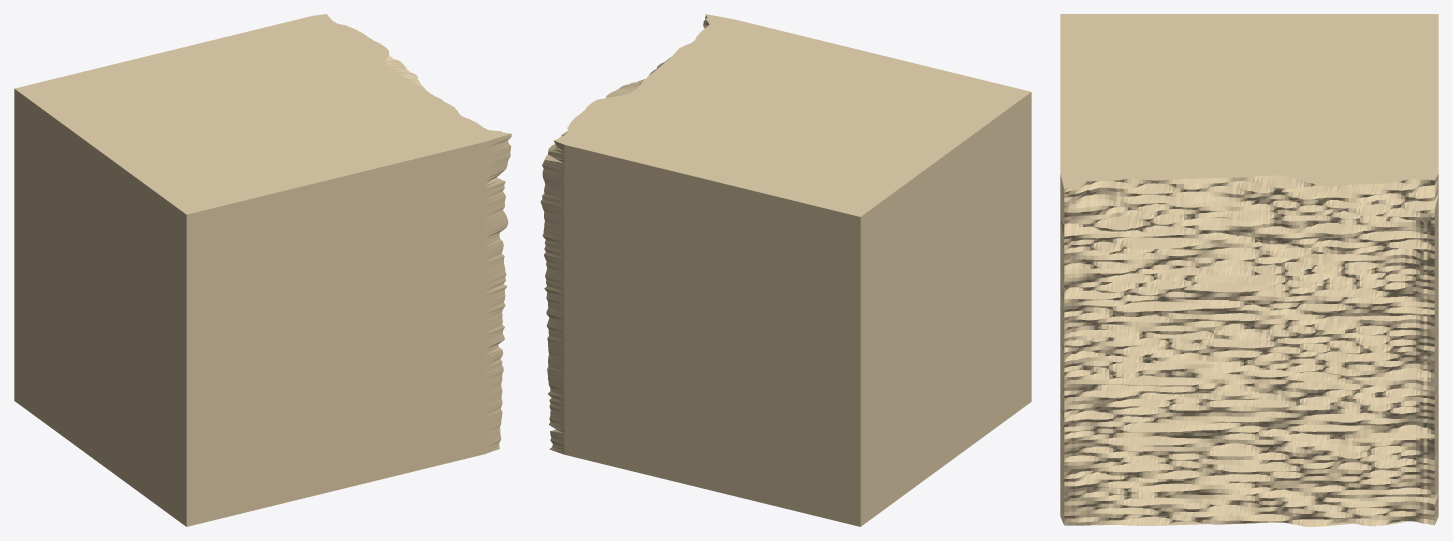
Rendered from lati.png.obj.
3 renders of one model, left to right at view 1: azimuth 30°, elevation 25°; view 2: azimuth 150°, elevation 25°; view 3: azimuth 270°, elevation 25°, orthographic. The views are drawn at different scales.
Parts seen in each view (by area): view 1: Cube; view 2: Cube; view 3: Cube.
Boxes of the visible parts, box(x1,y1,x2,y2) form: Cube: box(14, 14, 511, 526); Cube: box(540, 14, 1031, 526); Cube: box(1060, 14, 1438, 526).
Bounding box in the file's own units: 1.1 × 1 × 1.
